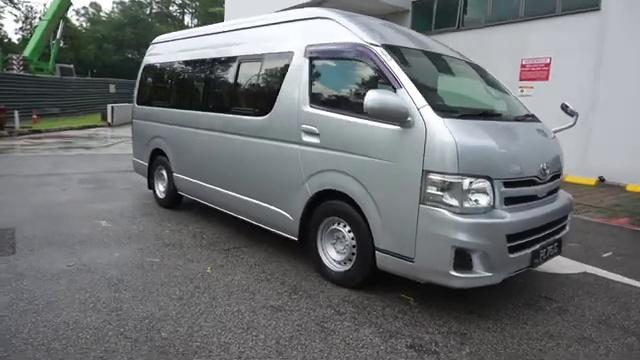van: (127, 6, 580, 288)
